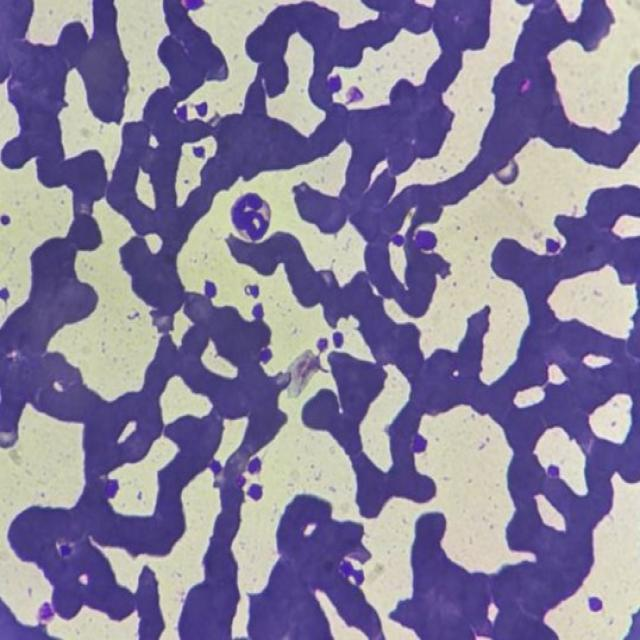Neutrofilo: (230, 194, 275, 243)
